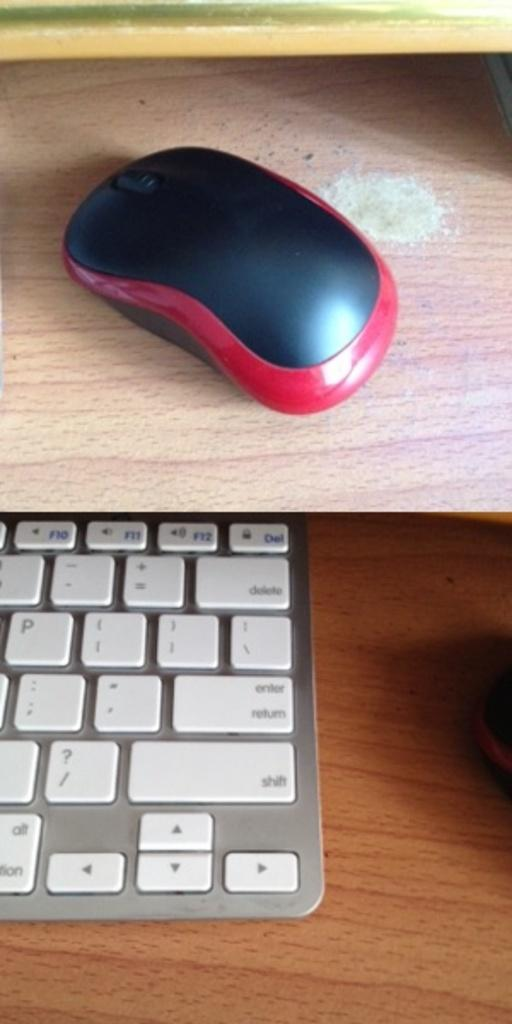Computer-mouse: (56, 142, 404, 422)
